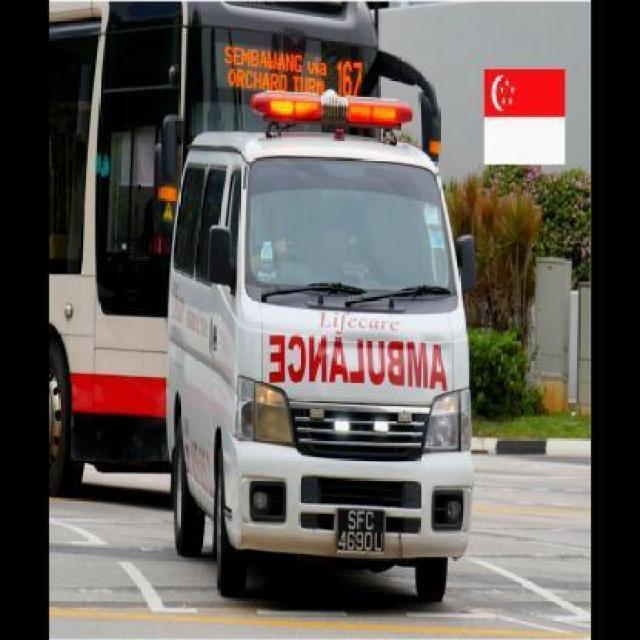emergency: (161, 85, 477, 603)
